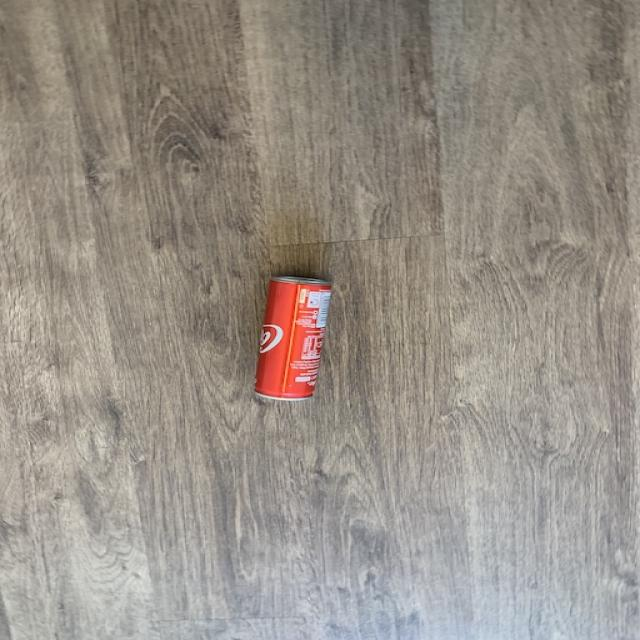litter: (229, 253, 356, 430)
